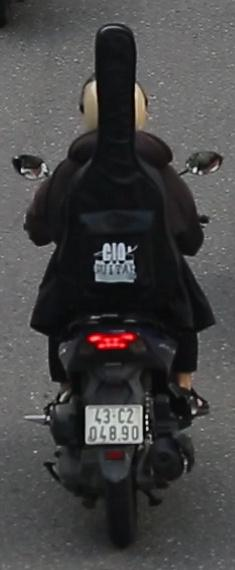LP: (81, 400, 145, 450)
